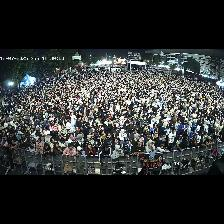person: (84, 134, 112, 152), (99, 145, 111, 170), (158, 122, 168, 142), (144, 129, 154, 148), (131, 141, 144, 155), (146, 140, 155, 160), (63, 144, 76, 157), (168, 129, 176, 150), (84, 142, 96, 156), (112, 145, 124, 159), (172, 135, 182, 150), (155, 140, 167, 152), (132, 134, 143, 147), (140, 116, 148, 133), (130, 119, 139, 133), (55, 131, 66, 142), (67, 117, 75, 132), (189, 124, 197, 139), (43, 143, 52, 156), (179, 120, 187, 134), (122, 143, 130, 157), (124, 137, 132, 151), (53, 142, 63, 153), (179, 136, 188, 148), (119, 129, 126, 144), (122, 121, 130, 134), (112, 138, 120, 150), (189, 135, 197, 147), (20, 139, 28, 151), (45, 131, 52, 144), (74, 127, 83, 137), (59, 124, 67, 135), (71, 137, 79, 148), (59, 138, 67, 149), (36, 137, 44, 148), (130, 129, 137, 141), (105, 133, 112, 145), (87, 134, 94, 146), (29, 142, 35, 155), (175, 119, 180, 133), (36, 145, 43, 155), (82, 139, 88, 150), (99, 130, 105, 141), (187, 124, 192, 137), (204, 137, 212, 145), (77, 147, 85, 155), (212, 136, 220, 144), (105, 116, 112, 125), (77, 135, 83, 145), (120, 116, 125, 127), (139, 168, 148, 174), (50, 138, 55, 148), (10, 140, 15, 150), (15, 141, 19, 153), (68, 134, 73, 143), (41, 133, 45, 142)
